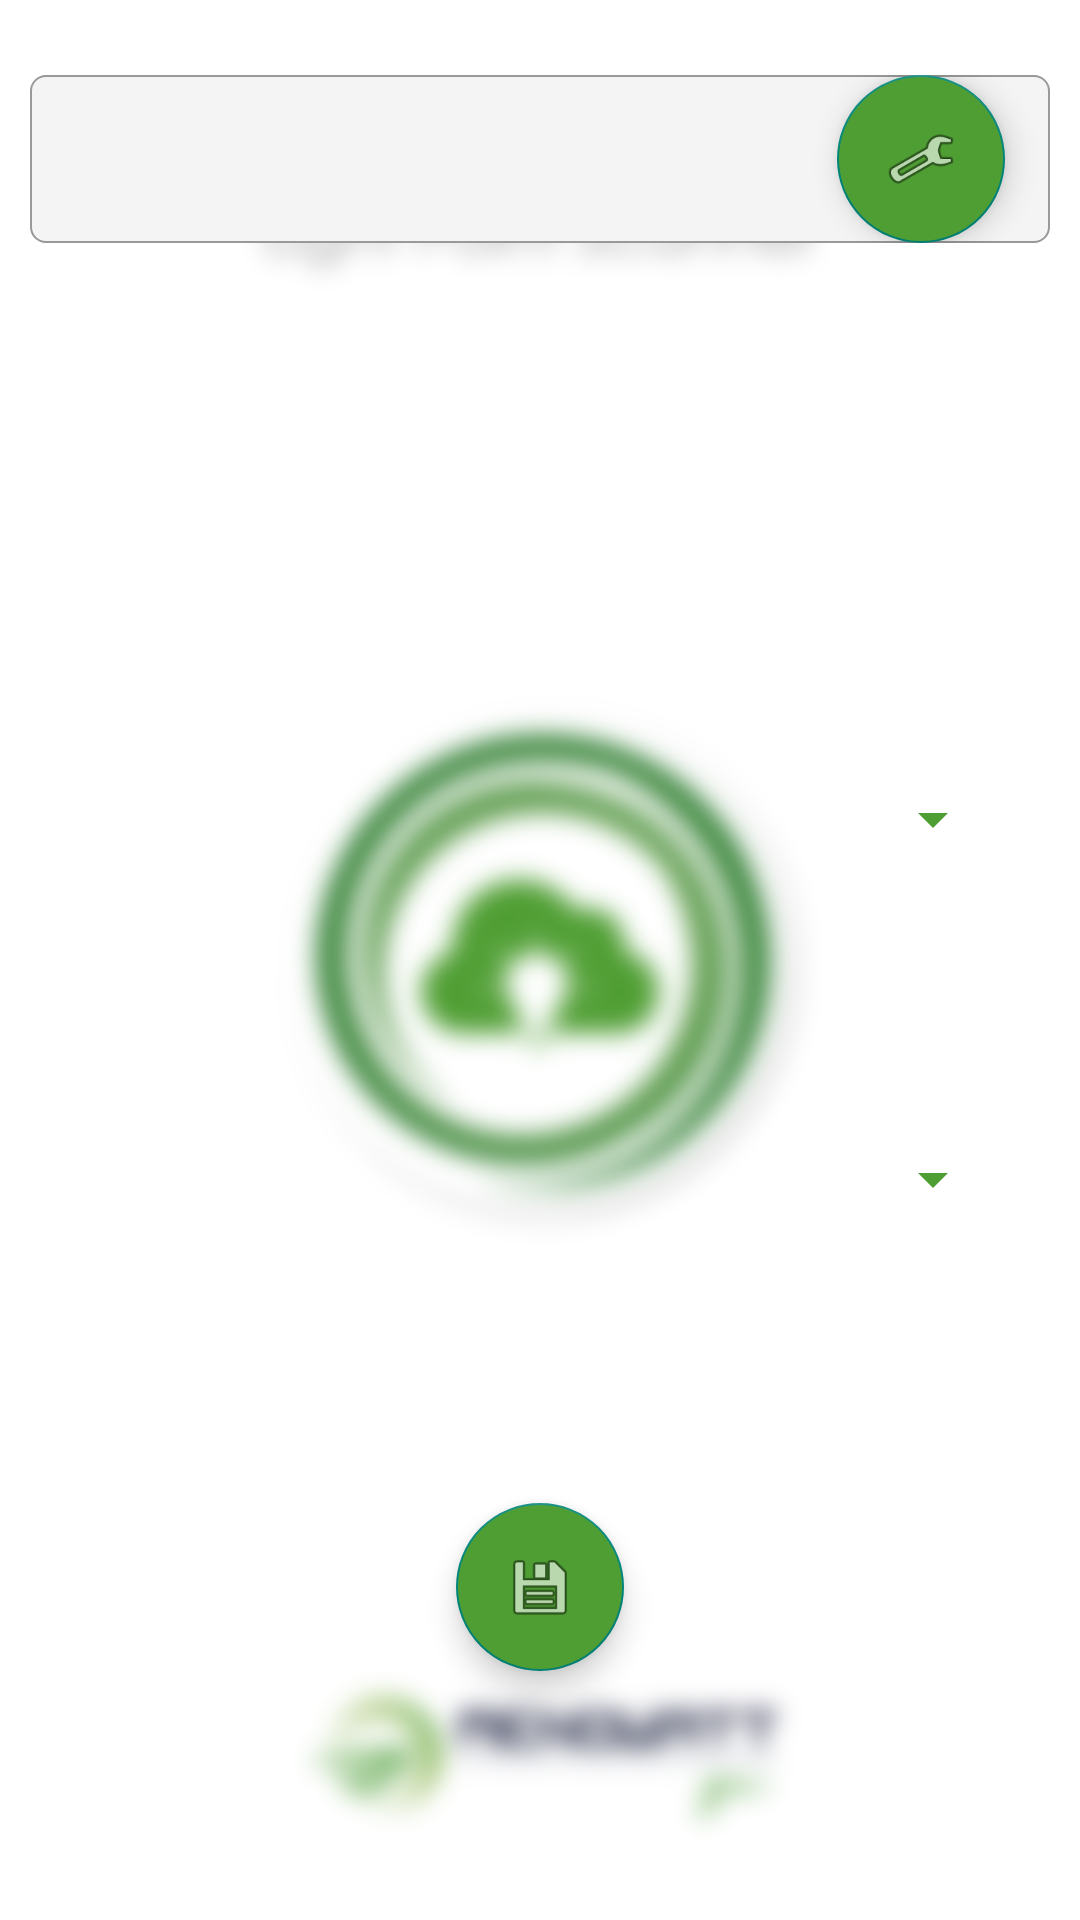

Locate icon controls on the screen. Image size 1080 × 1920, boxes as region(x1, y1, x2, y2).
manage: region(837, 75, 1005, 243)
save: region(456, 1503, 624, 1671)
